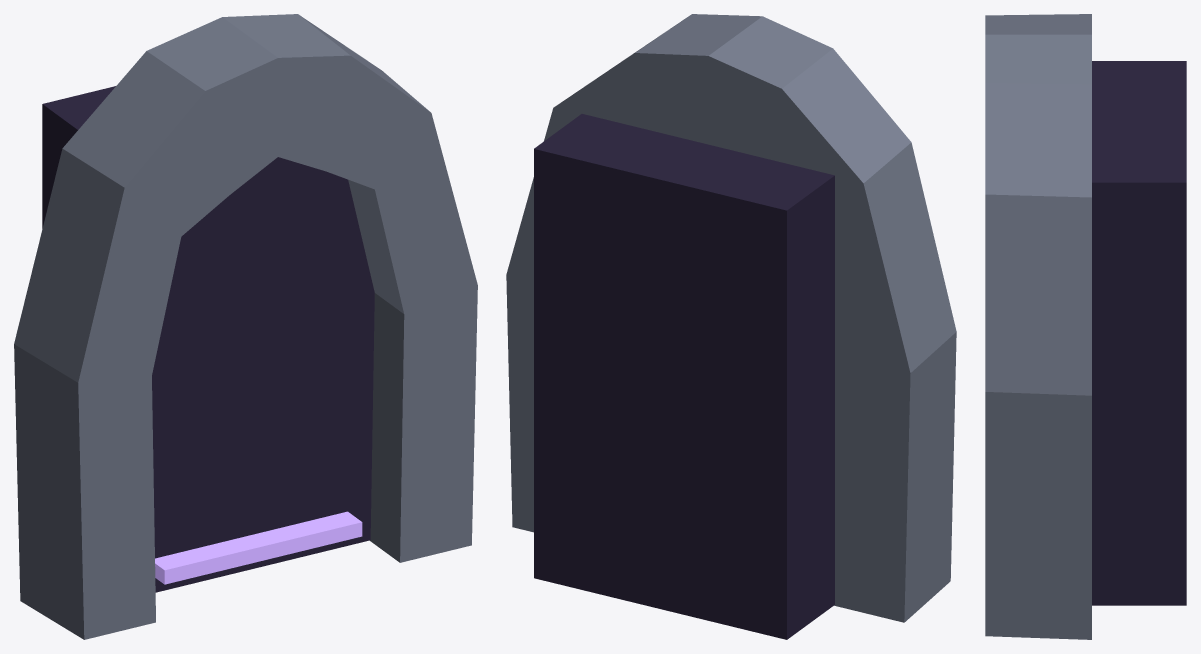
The model's file is Stage_05b_妖洞通关石门_开.glb.
3 renders of one model, left to right at view 1: azimuth 30°, elevation 25°; view 2: azimuth 150°, elevation 25°; view 3: azimuth 270°, elevation 25°, orthographic. The views are drawn at different scales.
Parts seen in each view (by area): view 1: DungeonArchway, Cube, Cube.001; view 2: Cube, DungeonArchway; view 3: DungeonArchway, Cube.
Boxes of the visible parts, bbox=[...] form: DungeonArchway: bbox=[14, 14, 477, 639]; Cube: bbox=[42, 86, 374, 592]; Cube.001: bbox=[155, 511, 362, 584]; Cube: bbox=[534, 114, 834, 639]; DungeonArchway: bbox=[506, 14, 956, 622]; DungeonArchway: bbox=[985, 14, 1091, 639]; Cube: bbox=[1092, 61, 1186, 605].
Bounding box in the file's own units: 3.96 × 4.86 × 1.73.
